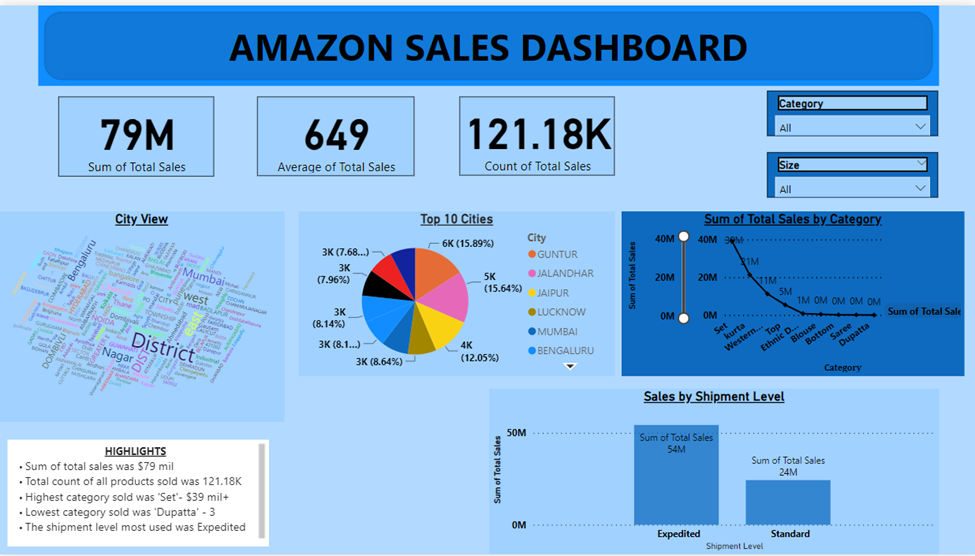

The dashboard page shown, as its layout file describes it:
{"tool":"powerbi","page":{"name":"Page 1","canvas":[1280,720],"ordinal":0},"visuals":[{"type":"shape","box":[51.6,0,1180.3,105.7],"z":0},{"type":"card","fields":{"Values":["Sum(Amazon Sale Report.Amount)"]},"box":[76.8,118.9,204.1,104.5],"z":1000},{"type":"card","fields":{"Values":["Avg(Amazon Sale Report.Amount)"]},"box":[337.6,119.2,206.1,104.3],"z":2000},{"type":"card","fields":{"Values":["CountNonNull(Amazon Sale Report.Amount)"]},"box":[603.3,119.2,203.6,103],"z":3000},{"type":"slicer","fields":{"Values":["Amazon Sale Report.Category"]},"box":[1007.3,112.1,224.1,59.6],"z":4000},{"type":"slicer","fields":{"Values":["Amazon Sale Report.Size"]},"box":[1007.3,191.9,224.1,59.6],"z":5000},{"type":"lineChart","fields":{"Y":["Sum(Amazon Sale Report.Total Sales)"],"Category":["Amazon Sale Report.Category"]},"box":[815.5,270.6,449.3,216],"z":6000},{"type":"columnChart","title":"Sales by Shipment Level","fields":{"Y":["Sum(Amazon Sale Report.Total Sales)"],"Category":["Amazon Sale Report.Shipment Level"]},"box":[641.3,503,590.1,216.9],"z":7000},{"type":"textbox","box":[11.2,568.5,342.6,140.3],"z":8000},{"type":"pieChart","title":"Top 10 Cities ","fields":{"Category":["Amazon Sale Report.City"],"Y":["Sum(Amazon Sale Report.Total Sales)"]},"box":[392.2,270.6,414.8,215.8],"z":9000},{"type":"WordCloud1447959067750","title":"City View","fields":{"Category":["Amazon Sale Report.City"]},"box":[0,269.9,373.8,276.1],"z":10000}]}

Visuals, with their boxes in screenshot pixels (x1, y1, x2, y2), scaled from the page's 1280x720 canvas onto the 975x556 screenshot:
shape: box(39, 0, 938, 82)
card - Sum(Amazon Sale Report.Amount): box(58, 92, 214, 173)
card - Avg(Amazon Sale Report.Amount): box(257, 92, 414, 173)
card - CountNonNull(Amazon Sale Report.Amount): box(460, 92, 615, 172)
slicer - Amazon Sale Report.Category: box(767, 87, 938, 133)
slicer - Amazon Sale Report.Size: box(767, 148, 938, 194)
lineChart - Sum(Amazon Sale Report.Total Sales) x Amazon Sale Report.Category: box(621, 209, 963, 376)
"Sales by Shipment Level" columnChart: box(488, 388, 938, 555)
textbox: box(9, 439, 269, 547)
"Top 10 Cities " pieChart: box(299, 209, 615, 376)
"City View" WordCloud1447959067750: box(0, 208, 285, 422)
